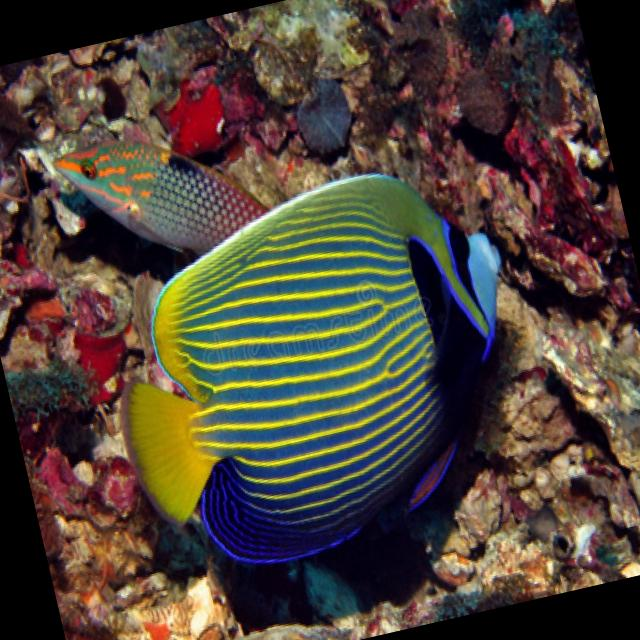AngelFish: (83, 152, 562, 597)
